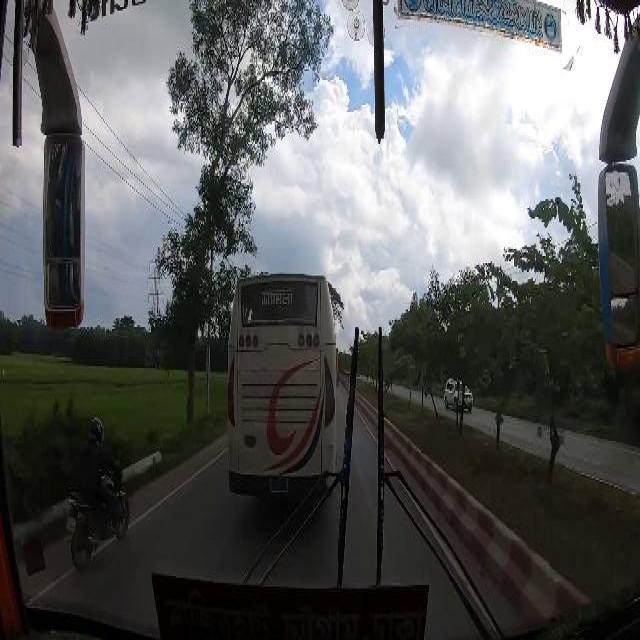bike: (71, 413, 132, 567)
vehicle: (224, 271, 340, 495), (445, 377, 474, 411)
